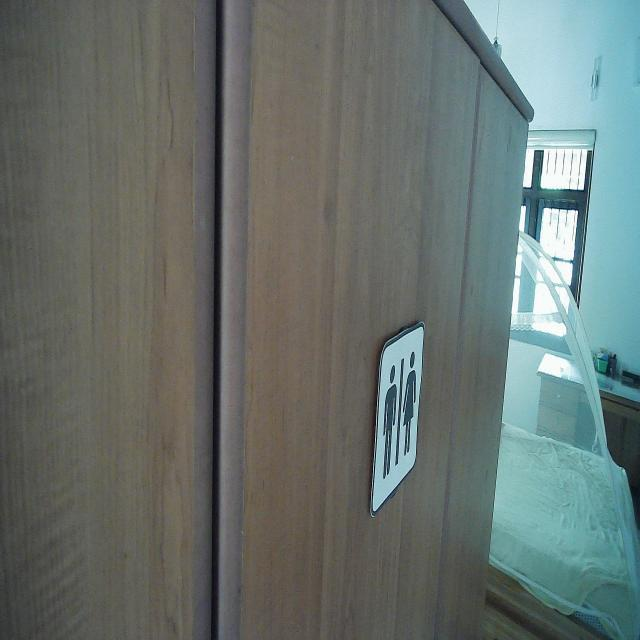restroom: (369, 320, 427, 520)
